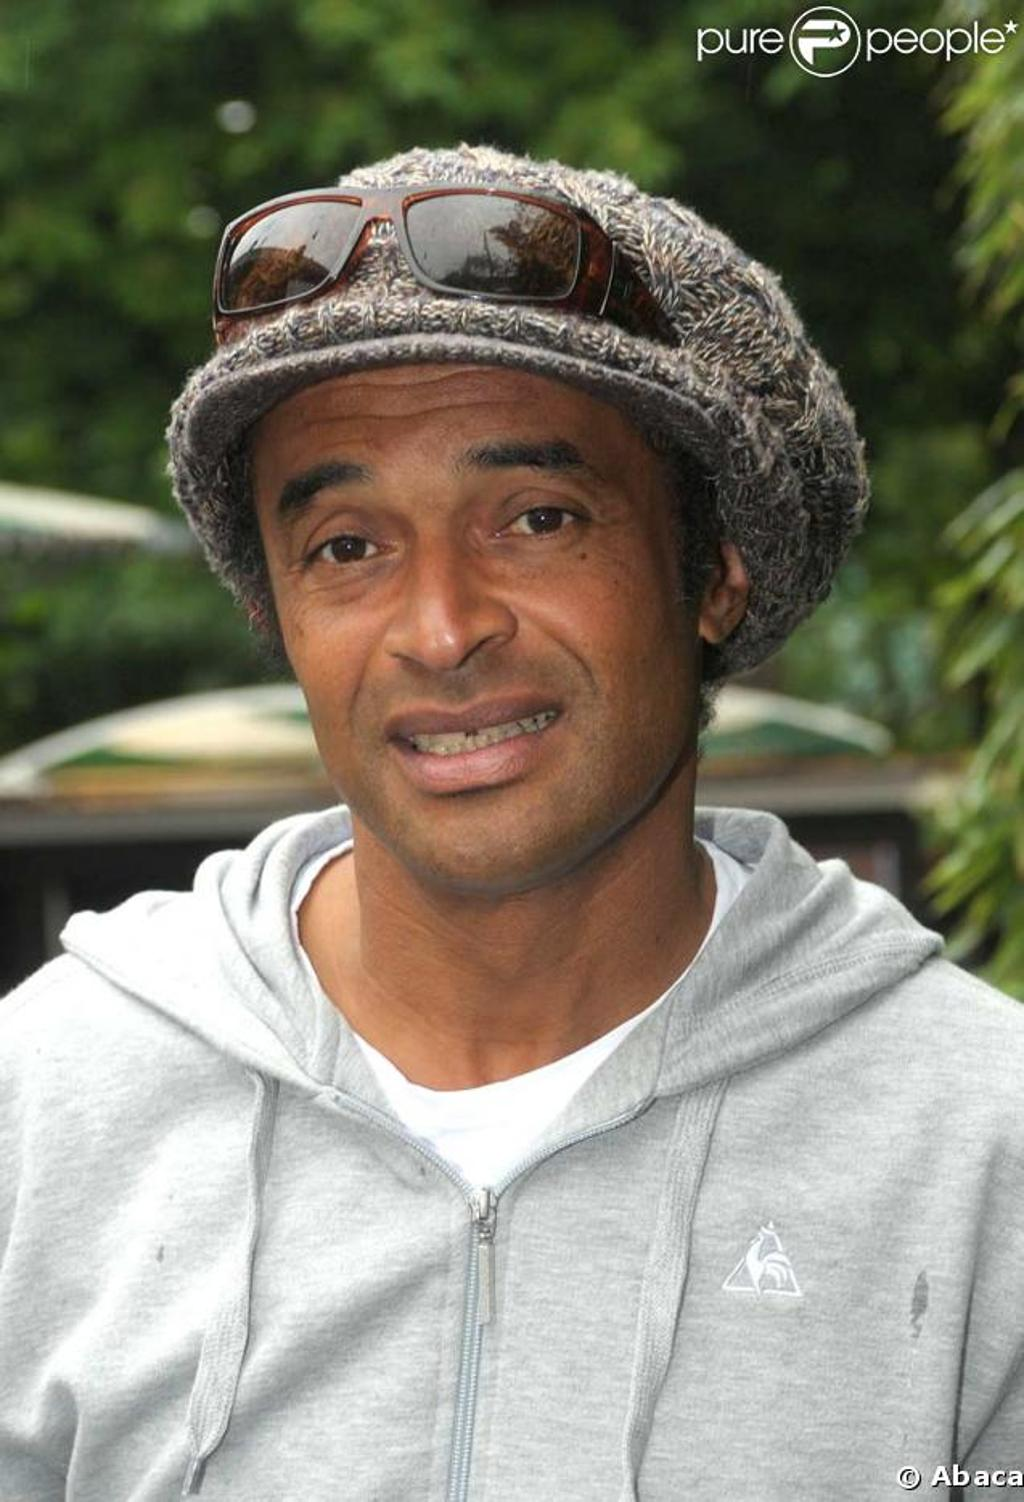face: (244, 343, 699, 892)
